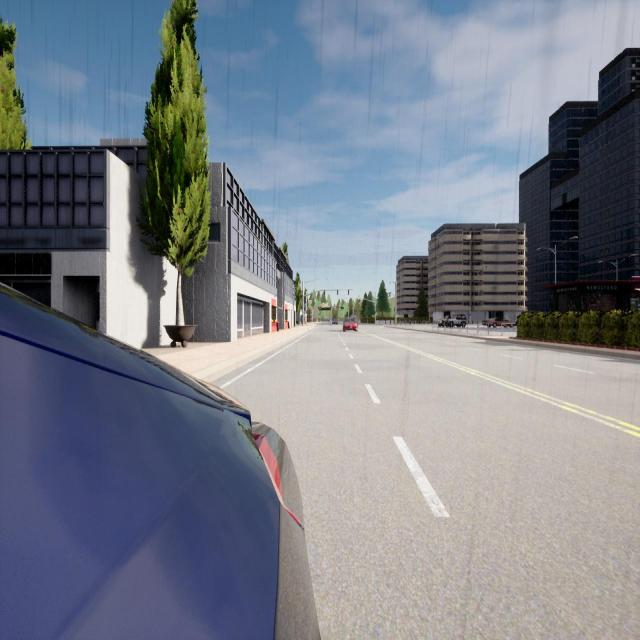Vehicle: (0, 284, 319, 638), (482, 317, 516, 328), (448, 314, 466, 328), (343, 316, 358, 332), (438, 315, 450, 328), (332, 319, 338, 325)
traffic_light: (324, 290, 326, 295), (374, 310, 376, 313), (337, 289, 338, 295), (348, 290, 349, 295), (394, 307, 395, 311), (359, 298, 360, 302), (390, 292, 390, 297), (350, 298, 350, 302), (342, 298, 342, 302)
